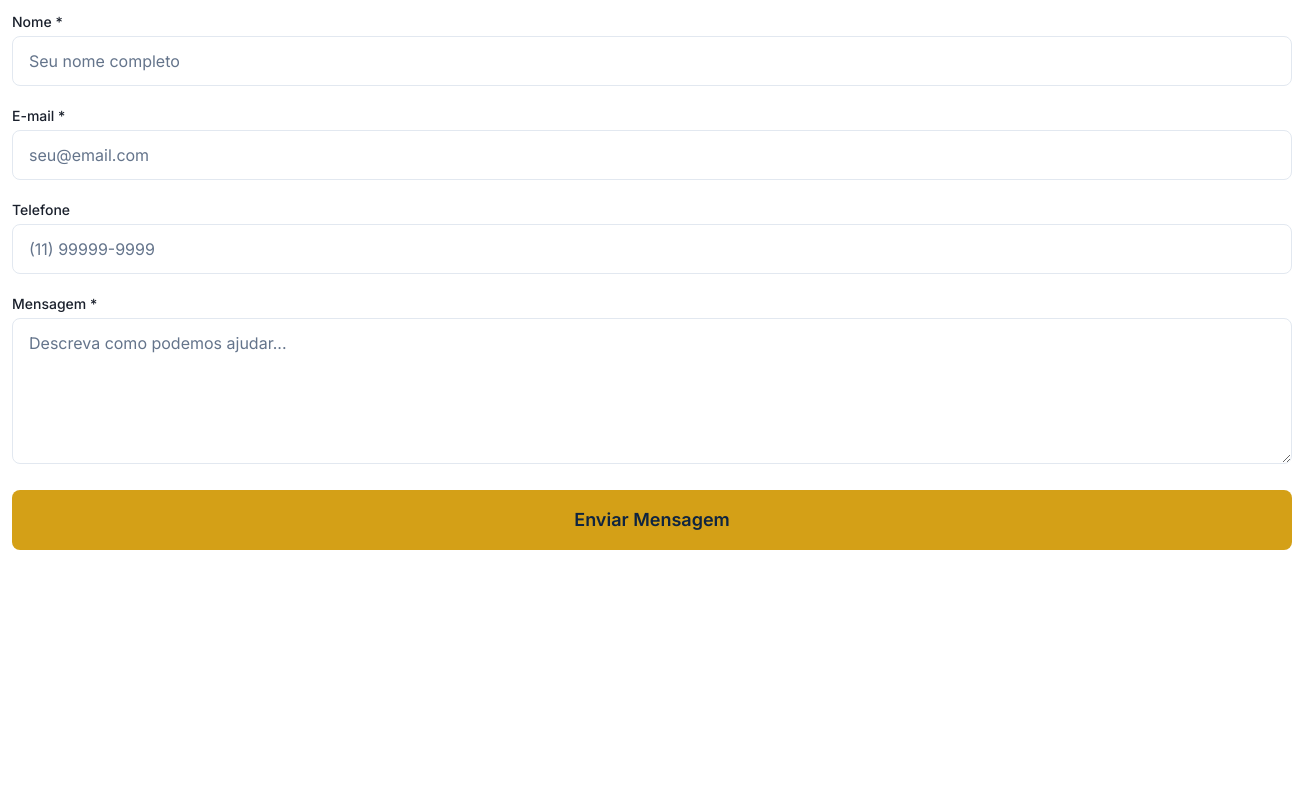
ContactForm component › should validate message length
Type "João" into the field labelled "Nome *" at coordinates (652, 61), box left=12, top=36, right=1292, bottom=86
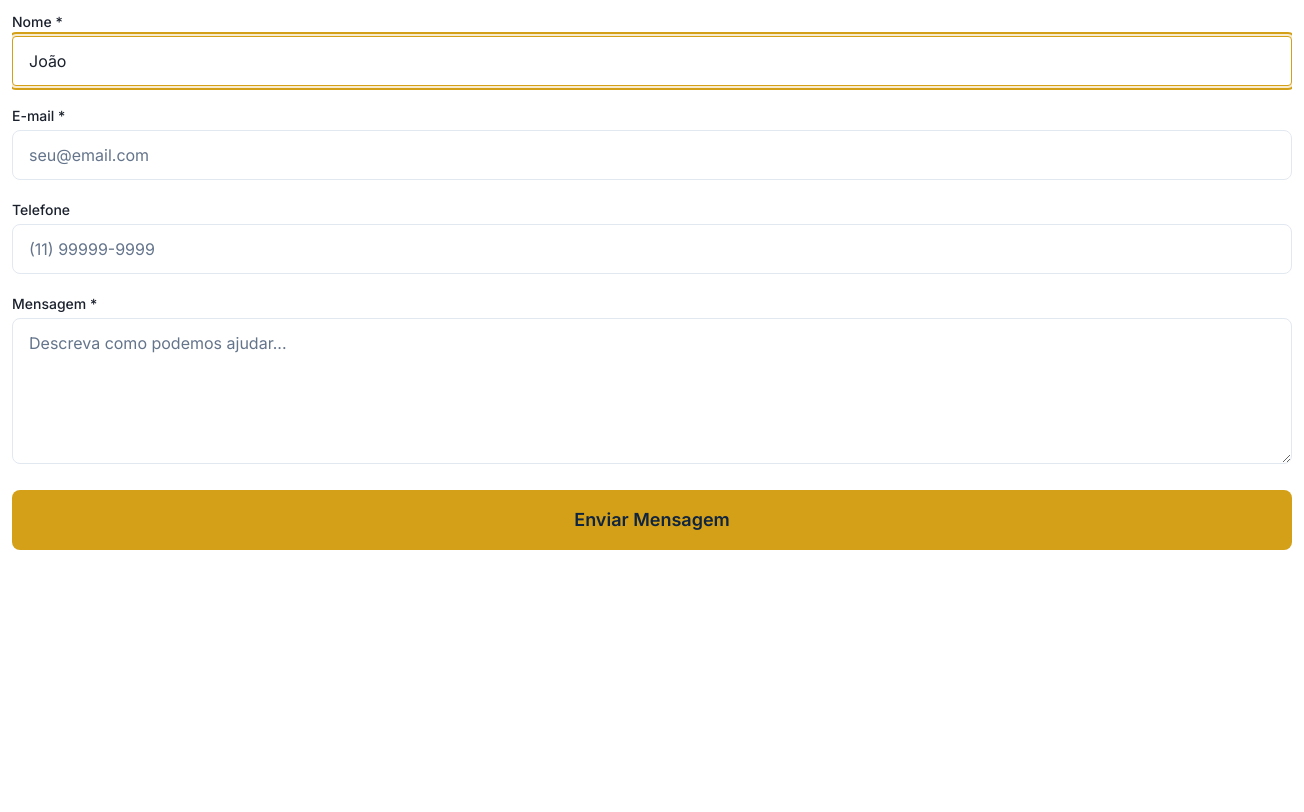
Type "joao@example.com" into the field labelled "E-mail *" at coordinates (652, 155), box left=12, top=130, right=1292, bottom=180
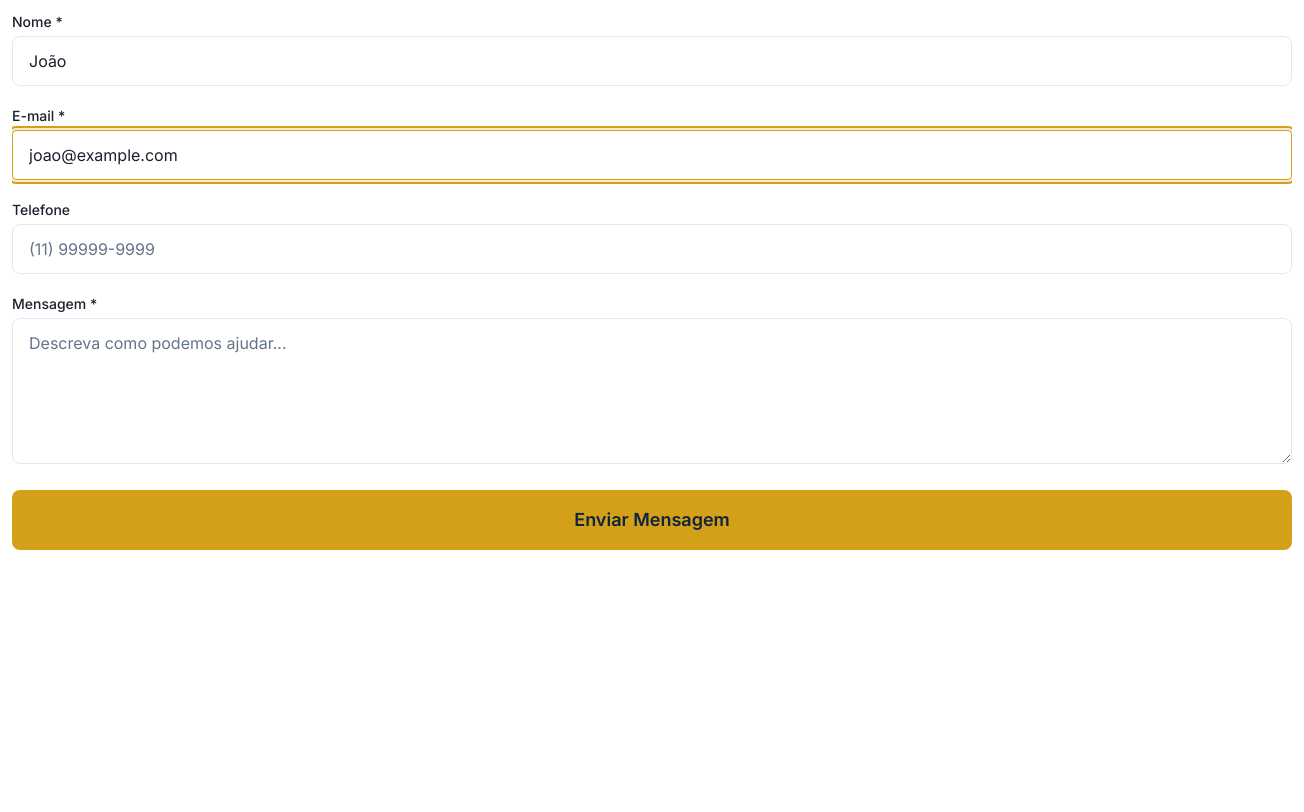
Type "Curta" into the text box labelled "Mensagem *" at coordinates (652, 391), box left=12, top=318, right=1292, bottom=464
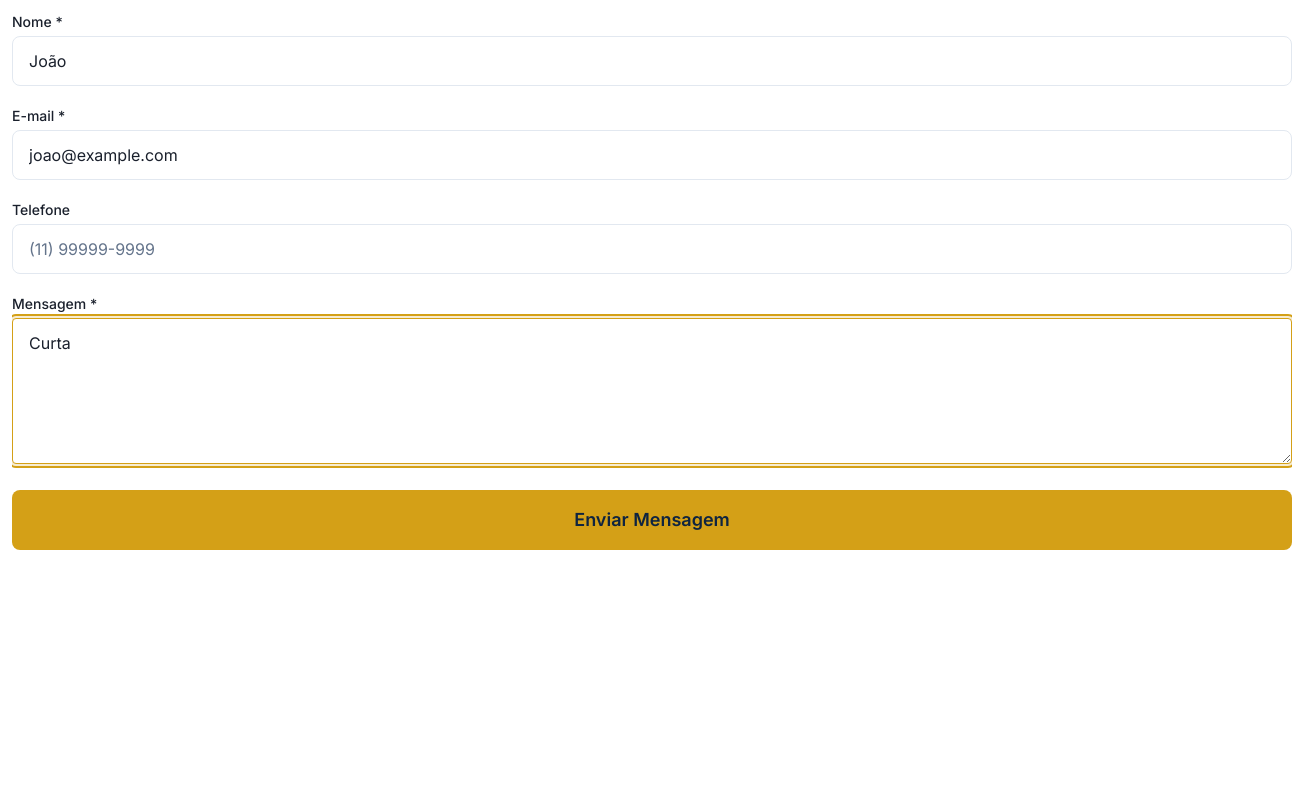
Click the button "Enviar Mensagem" at coordinates (652, 520), box left=12, top=490, right=1292, bottom=550
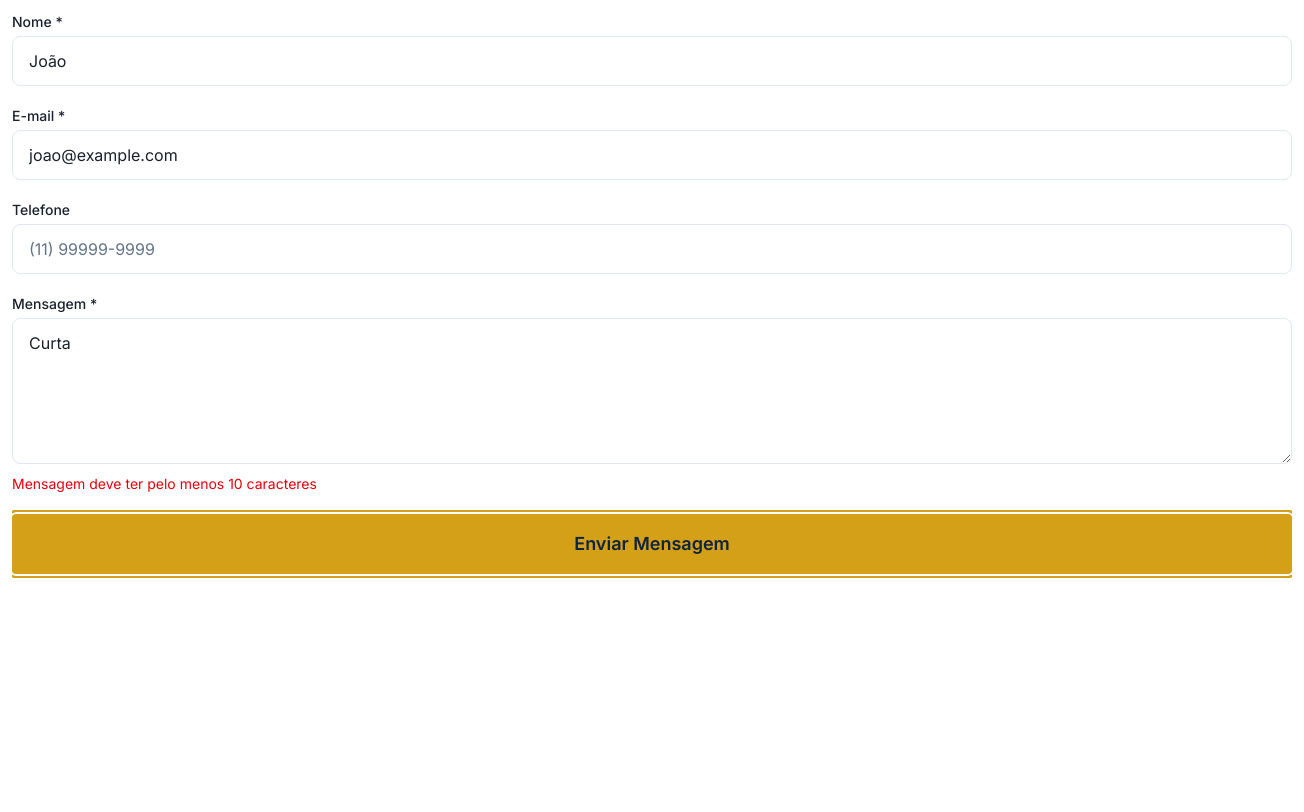
Check: the text "Mensagem deve ter pelo menos 10 caracteres" is shown, box left=12, top=475, right=317, bottom=492
